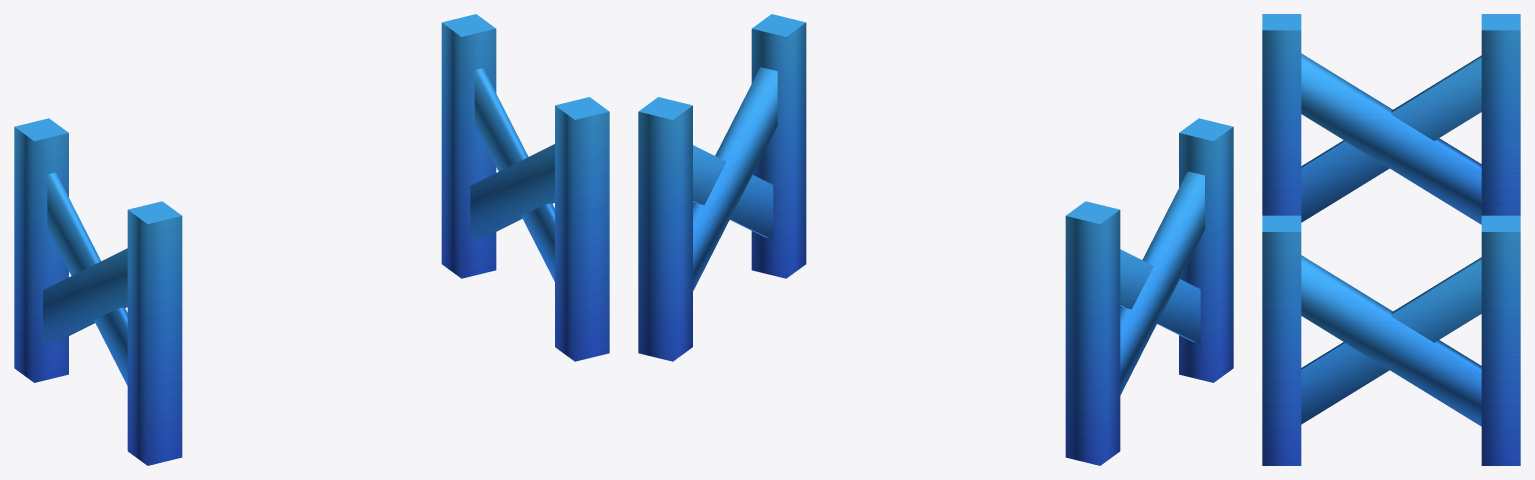
File: supports-wide-diagonal.fbx
3 renders of one model, left to right at view 1: azimuth 30°, elevation 25°; view 2: azimuth 150°, elevation 25°; view 3: azimuth 270°, elevation 25°, orthographic. The views are drawn at different scales.
Parts seen in each view (by area): view 1: supports-wide-diagonal; view 2: supports-wide-diagonal; view 3: supports-wide-diagonal.
Boxes of the visible parts, box(x1,y1,x2,y2) form: supports-wide-diagonal: box(14, 14, 609, 465); supports-wide-diagonal: box(638, 14, 1233, 465); supports-wide-diagonal: box(1262, 14, 1520, 465).
Size of the model in its own units: 200 by 100 by 100.
